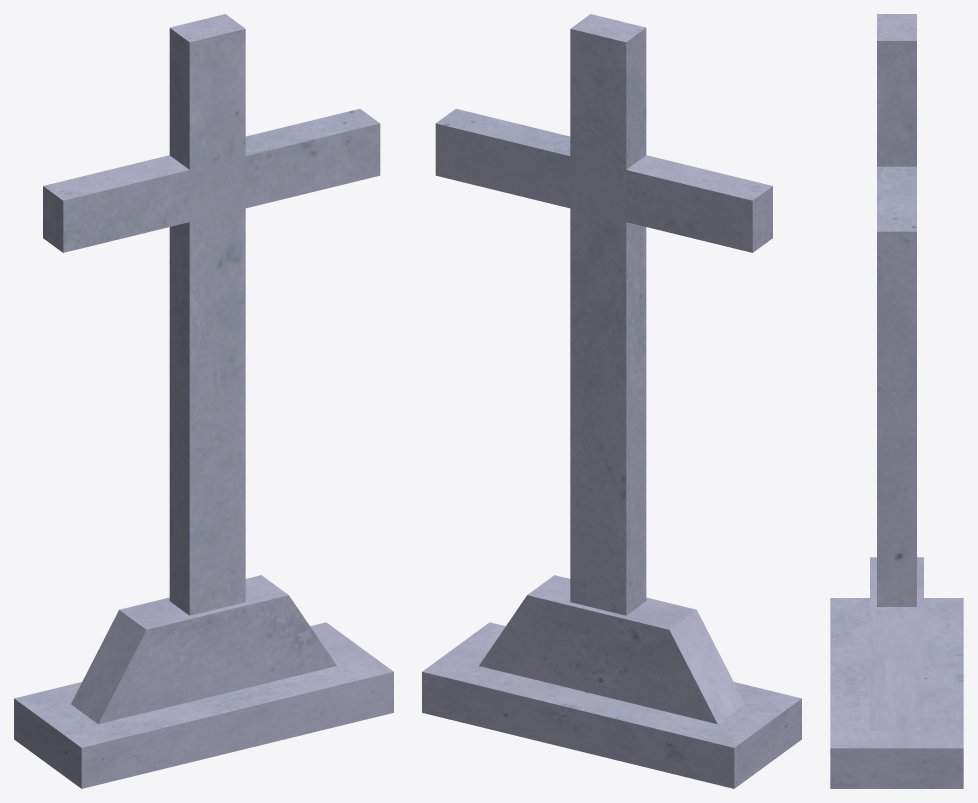
File: g_gravestone_03.fbx
The picture shows the model from 3 angles, left to right: view 1: azimuth 30°, elevation 25°; view 2: azimuth 150°, elevation 25°; view 3: azimuth 270°, elevation 25°; orthographic projection.
Visible parts, largest first — view 1: g_grvestone_03; view 2: g_grvestone_03; view 3: g_grvestone_03.
Part boxes in pixels (box(x1,y1,x2,y2)): g_grvestone_03: box(14, 14, 393, 788); g_grvestone_03: box(422, 14, 801, 788); g_grvestone_03: box(830, 14, 963, 788).
Size of the model in its own units: 51.91 by 107 by 18.86.
